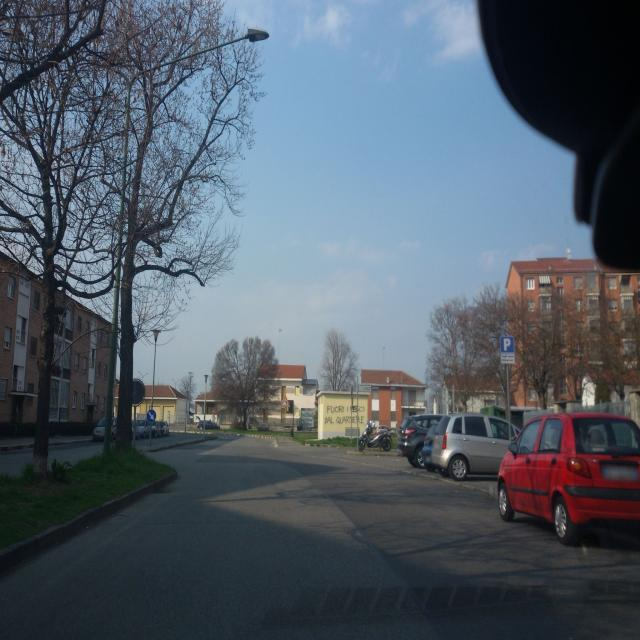bike: (358, 424, 393, 452)
car: (496, 411, 640, 546), (427, 412, 521, 481), (398, 413, 443, 468), (92, 417, 117, 442), (132, 420, 156, 440), (196, 420, 220, 430), (155, 421, 170, 436)
